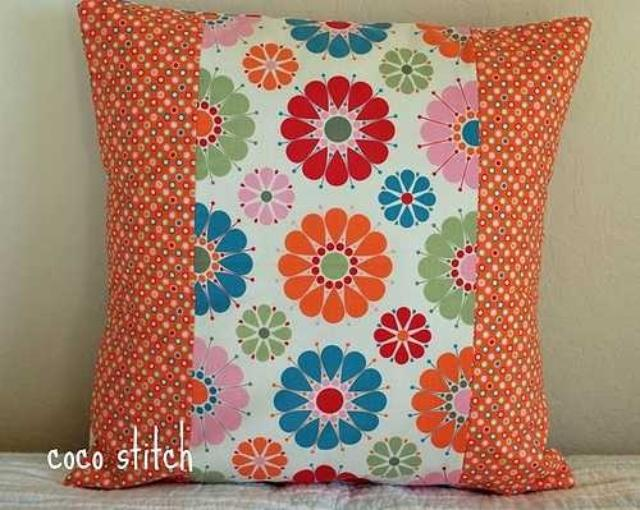pillow: (62, 0, 590, 496)
